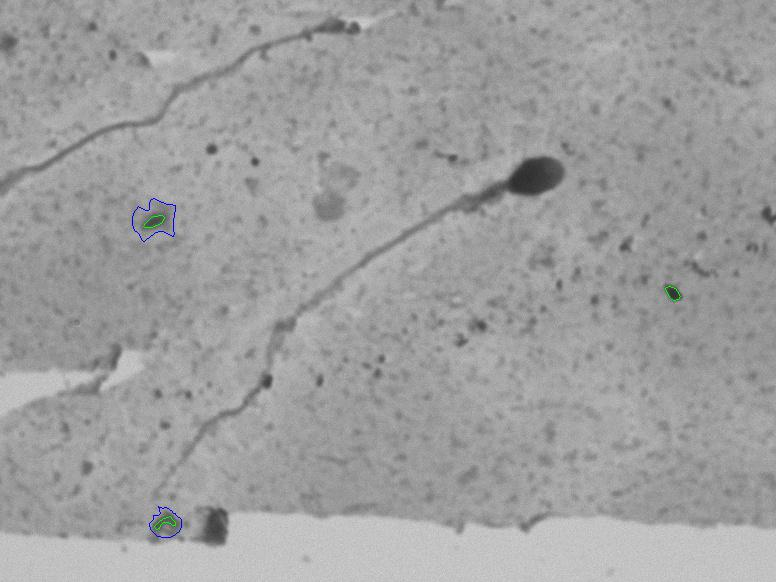Abnormal: (130, 146, 586, 506)
